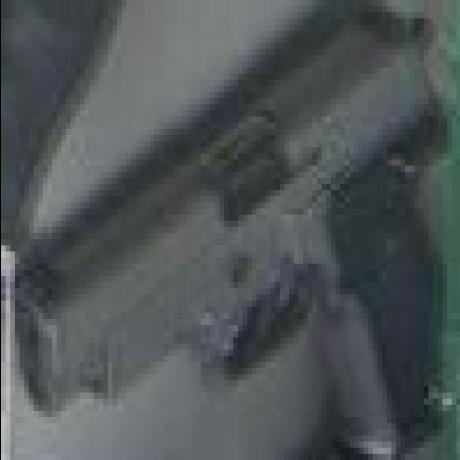weapon: (6, 0, 460, 457)
